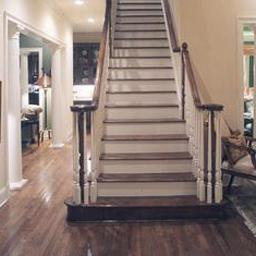Escaleras: (80, 2, 221, 214)
